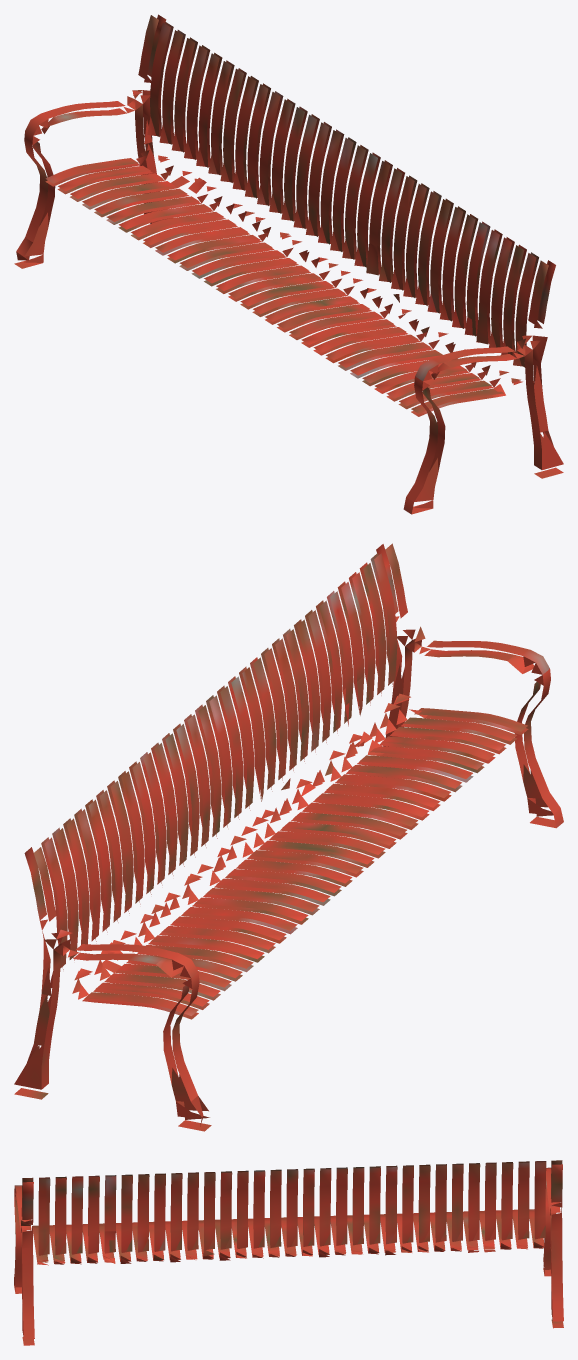
Rendered from tj_bench_park_long.fbx.
3 views of the same model, one above another, from view 1: azimuth 30°, elevation 25°; view 2: azimuth 150°, elevation 25°; view 3: azimuth 270°, elevation 25° (orthographic). The views are drawn at different scales.
Visible parts, largest first — view 1: tj_bench_park_long_LOD0; view 2: tj_bench_park_long_LOD0; view 3: tj_bench_park_long_LOD0.
Boxes of the visible parts, bbox=[...] form: tj_bench_park_long_LOD0: bbox=[14, 14, 563, 514]; tj_bench_park_long_LOD0: bbox=[14, 543, 563, 1131]; tj_bench_park_long_LOD0: bbox=[14, 1160, 563, 1345].
Size of what is drawn, in the model's own units: 1.04 by 1.06 by 3.23.
